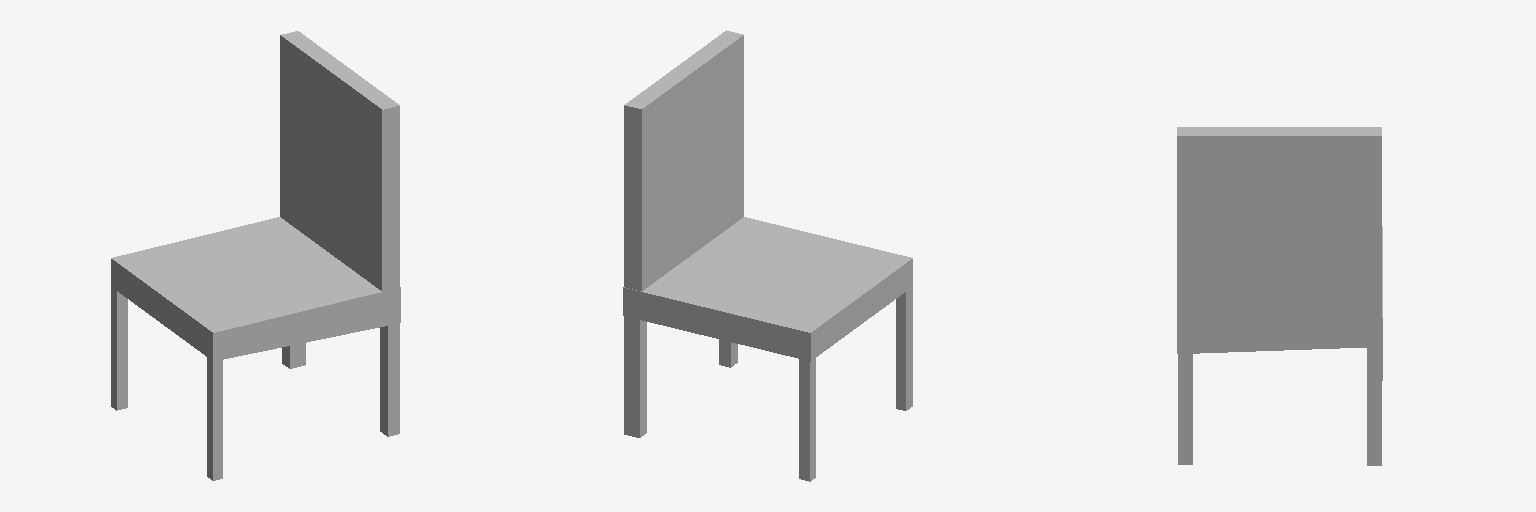
Rendered from chair.obj.
3 views of the same model, side by side, from view 1: azimuth 30°, elevation 25°; view 2: azimuth 150°, elevation 25°; view 3: azimuth 270°, elevation 25° (orthographic).
Parts seen in each view (by area): view 1: Cube; view 2: Cube; view 3: Cube.
Part boxes in pixels (x1,y1,x2,y2): Cube: (111,31,400,480); Cube: (623,30,912,481); Cube: (1177,127,1382,465).
Bounding box in the file's own units: 0.6113 × 1.03 × 0.5784.